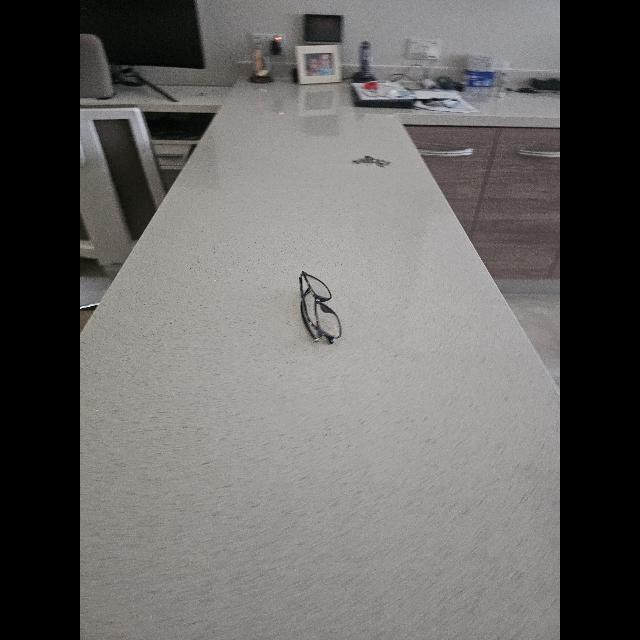glasses: (299, 272, 341, 344)
